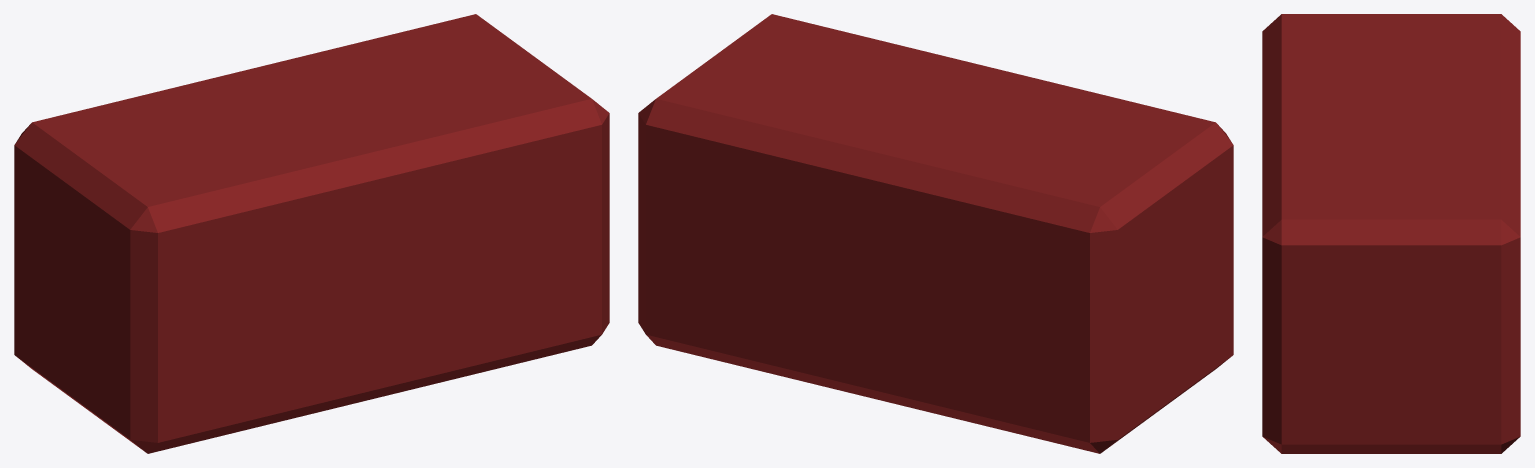
The model's file is brick01.fbx.
The picture shows the model from 3 angles, left to right: view 1: azimuth 30°, elevation 25°; view 2: azimuth 150°, elevation 25°; view 3: azimuth 270°, elevation 25°; orthographic projection. The views are drawn at different scales.
Visible parts, largest first — view 1: brick01; view 2: brick01; view 3: brick01.
Part boxes in pixels (box(x1,y1,x2,y2)): brick01: box(14, 14, 609, 453); brick01: box(638, 14, 1233, 453); brick01: box(1262, 14, 1520, 453).
Bounding box in the file's own units: 2.03 × 1 × 1.
